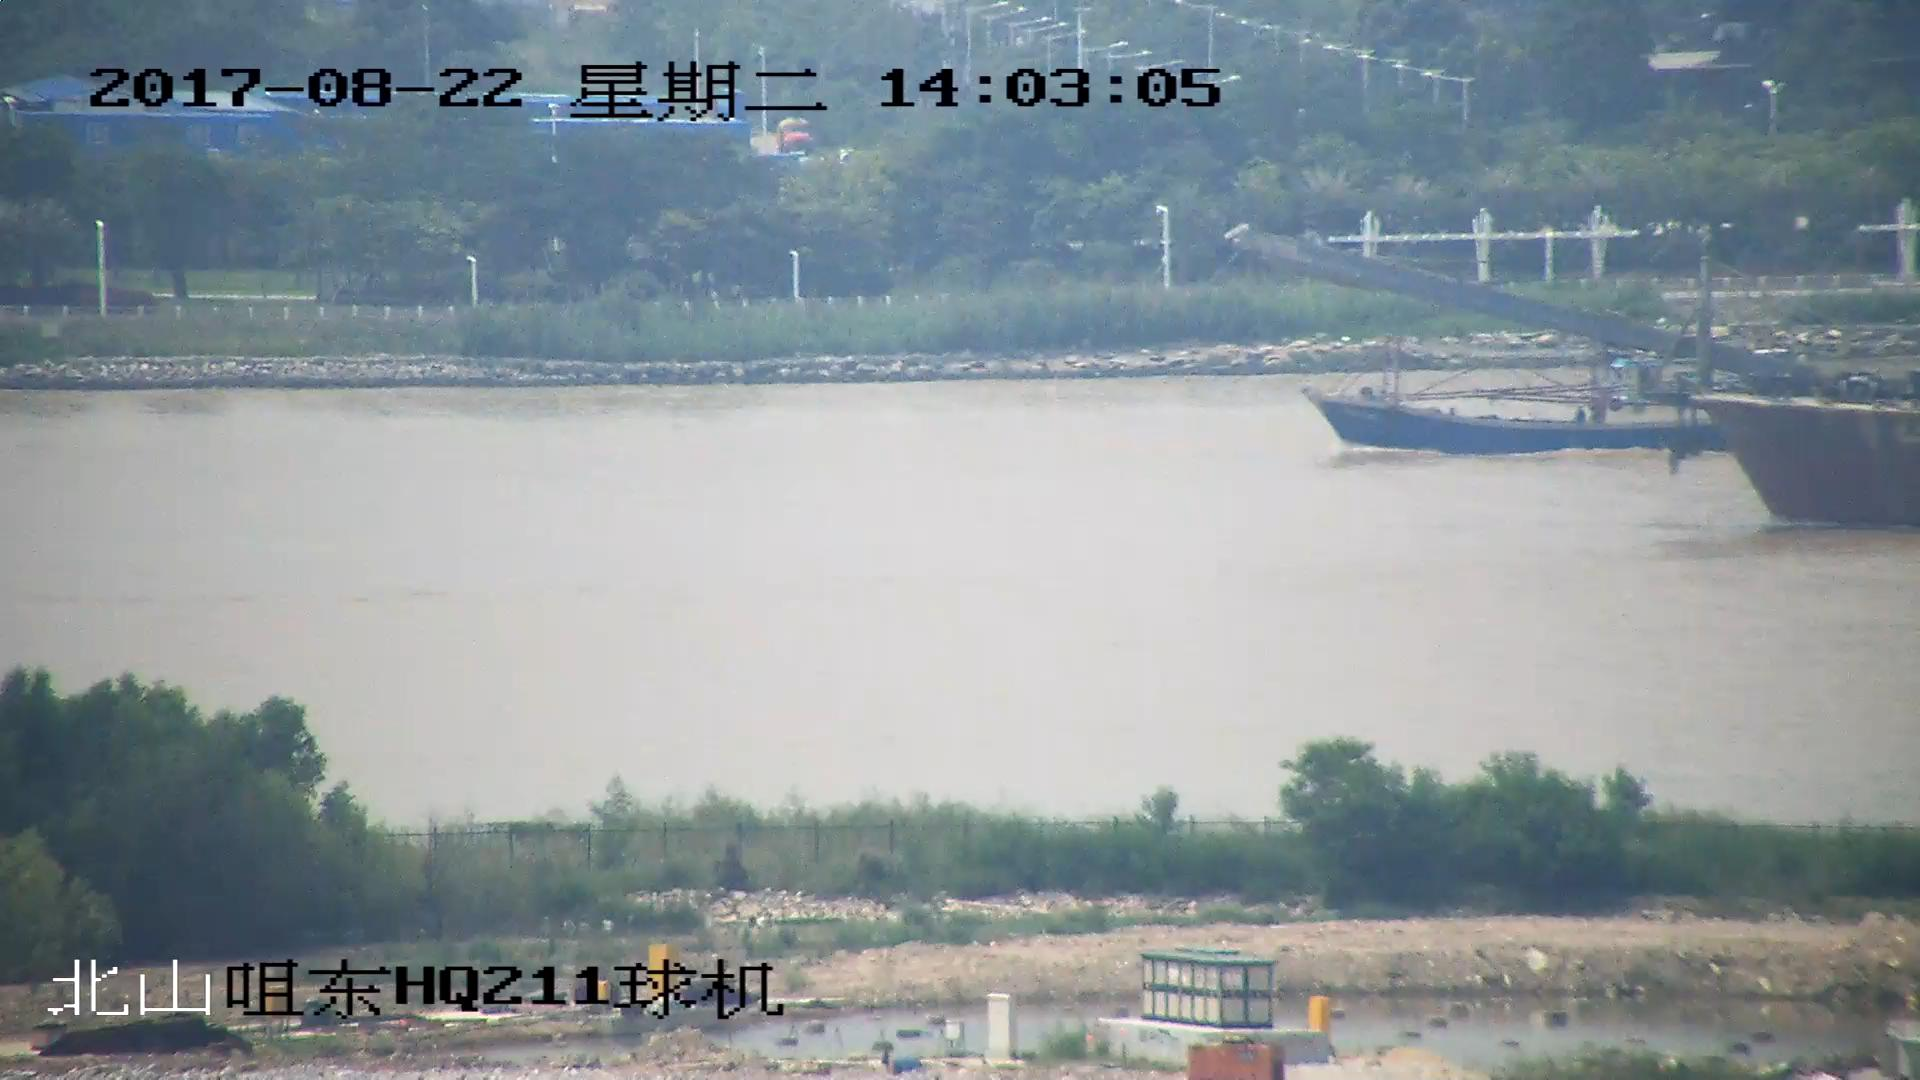bulk cargo carrier: (1233, 224, 1920, 528)
fishing boat: (1302, 341, 1733, 458)
